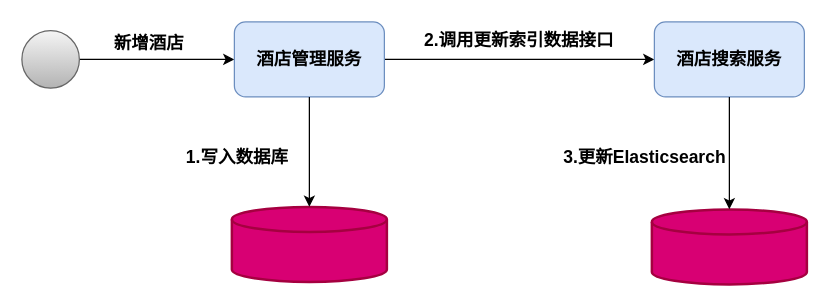
The diagram is 830 pixels wide and 308 high, and some of its shapes have lost their labels. The shapes that lost their labels are listed below. From the top down, each one's centre as x and y in pixels, then its label:
the point at 309,243: MySQL
the point at 729,246: Elasticsearch
